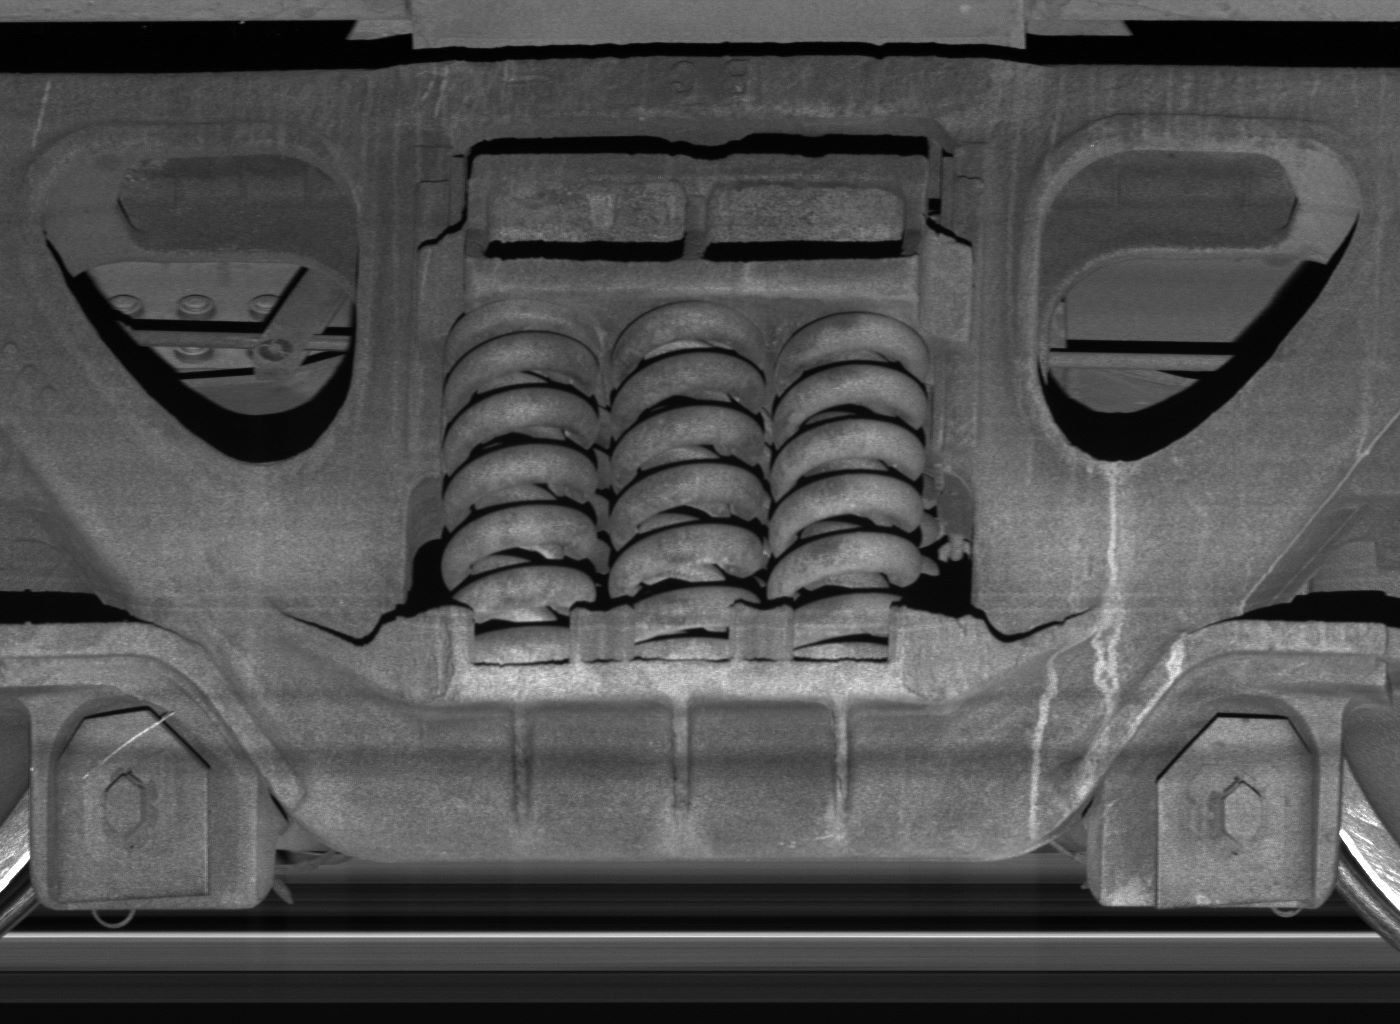normal: (1100, 694, 1339, 913), (30, 690, 253, 909)
